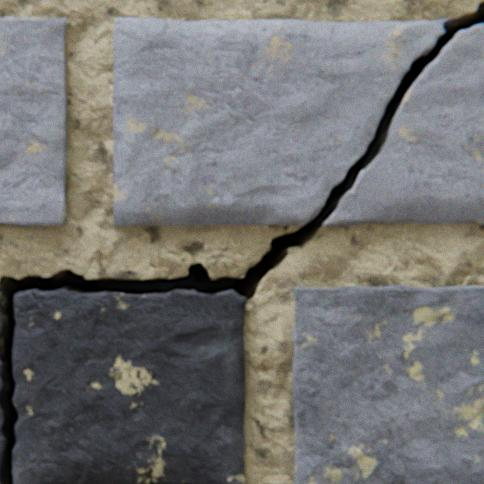brick: (291, 285, 483, 483), (0, 19, 68, 226)
broken_brick: (113, 18, 455, 225), (13, 288, 246, 483), (322, 26, 483, 226), (0, 399, 6, 483), (0, 287, 5, 338), (0, 353, 5, 396)
crack: (0, 0, 483, 483)
